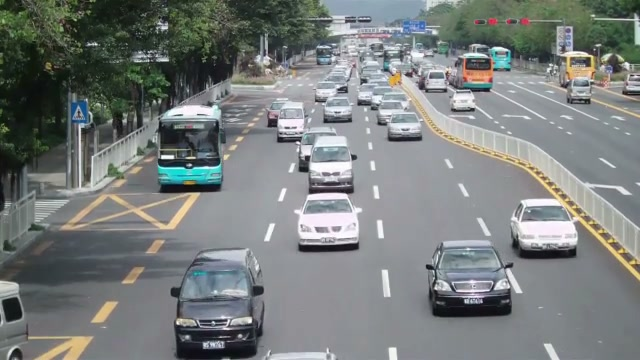bus: (156, 104, 224, 192), (449, 52, 494, 92), (489, 46, 512, 71)
car: (170, 247, 266, 358), (425, 240, 515, 317), (510, 198, 579, 258), (295, 192, 361, 251), (307, 138, 357, 194), (0, 279, 29, 360), (296, 130, 337, 171), (386, 112, 423, 142), (276, 105, 305, 143), (376, 99, 410, 126), (322, 96, 354, 123), (566, 77, 592, 104), (266, 99, 290, 128), (449, 89, 476, 112), (424, 70, 448, 93), (314, 81, 338, 103), (622, 74, 640, 95), (357, 86, 375, 106)
truck: (558, 51, 595, 88)
